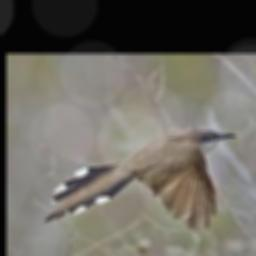Cuckoo: (44, 126, 236, 229)
